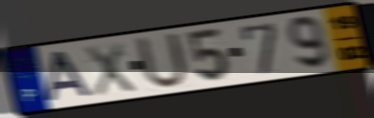5: (184, 25, 233, 84)
7: (237, 20, 278, 76)
9: (284, 15, 333, 71)
A: (44, 48, 95, 104)
U: (133, 31, 190, 92)
X: (82, 41, 138, 99)
